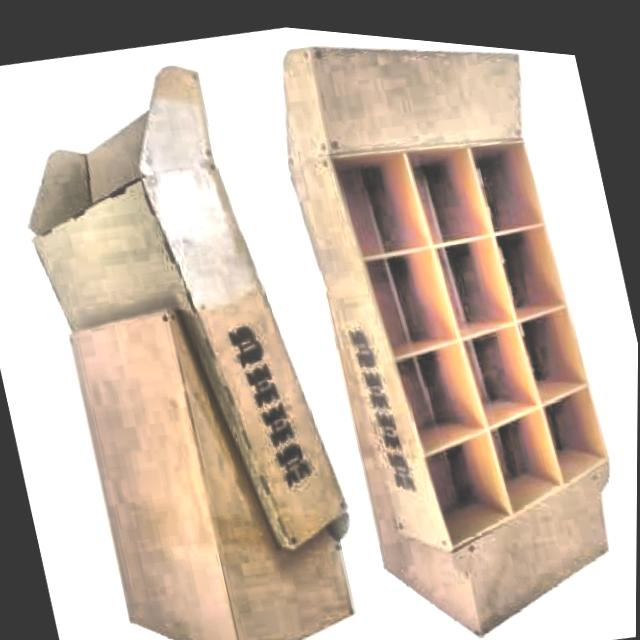Cardbox: (0, 2, 419, 640), (257, 20, 640, 640)
